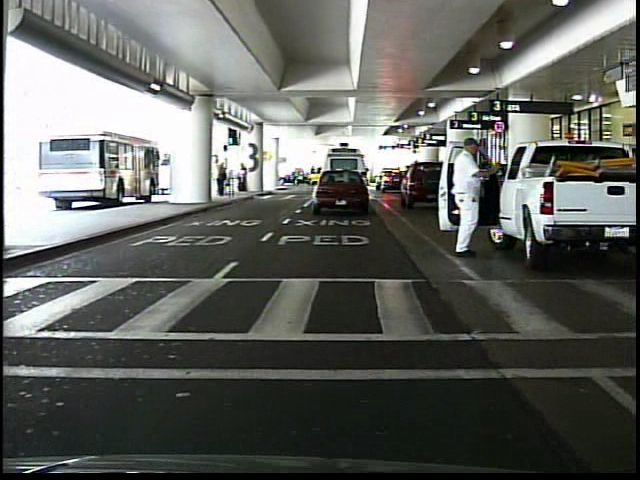person: (448, 131, 487, 260), (214, 155, 228, 200), (234, 163, 251, 196)
